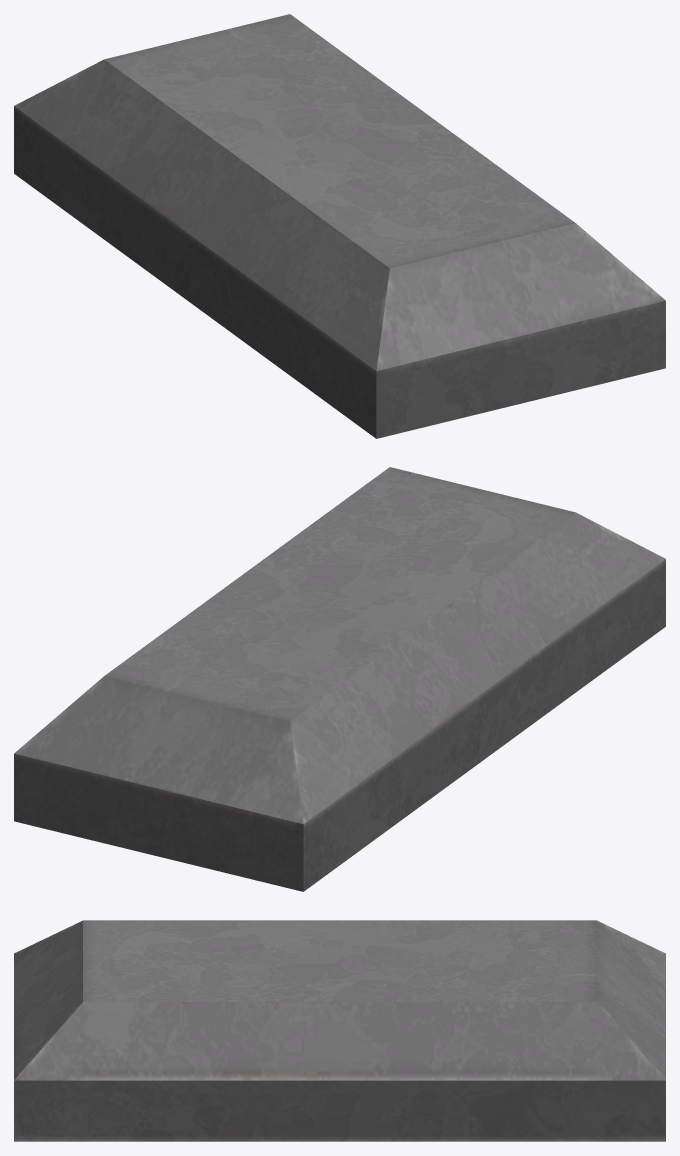
The model's file is IronIngot_Polished.glb.
The picture shows the model from 3 angles, top to bottom: view 1: azimuth 30°, elevation 25°; view 2: azimuth 150°, elevation 25°; view 3: azimuth 270°, elevation 25°; orthographic projection. The views are drawn at different scales.
Parts seen in each view (by area): view 1: IronIngot_Polished; view 2: IronIngot_Polished; view 3: IronIngot_Polished.
Boxes of the visible parts, box(x1,y1,x2,y2) form: IronIngot_Polished: box(14, 14, 665, 438); IronIngot_Polished: box(14, 467, 665, 891); IronIngot_Polished: box(14, 920, 665, 1141).
Bounding box in the file's own units: 0.2206 × 0.0945 × 0.4784.
1 material, 1 textured.
